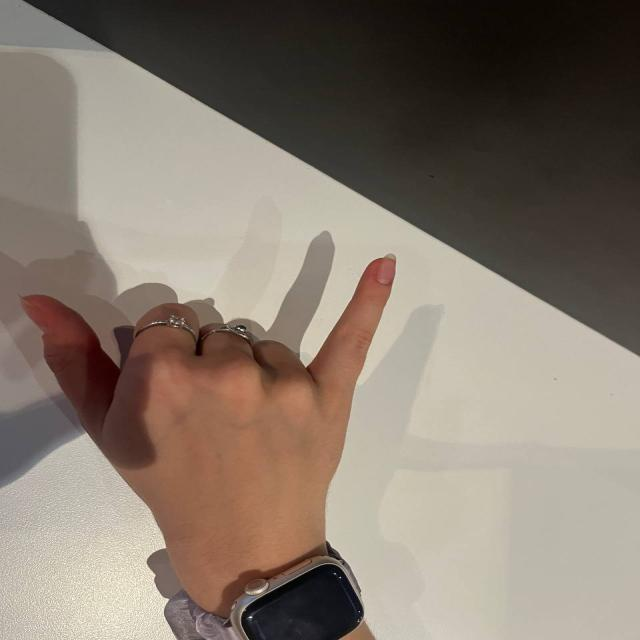u: (9, 238, 451, 537)
